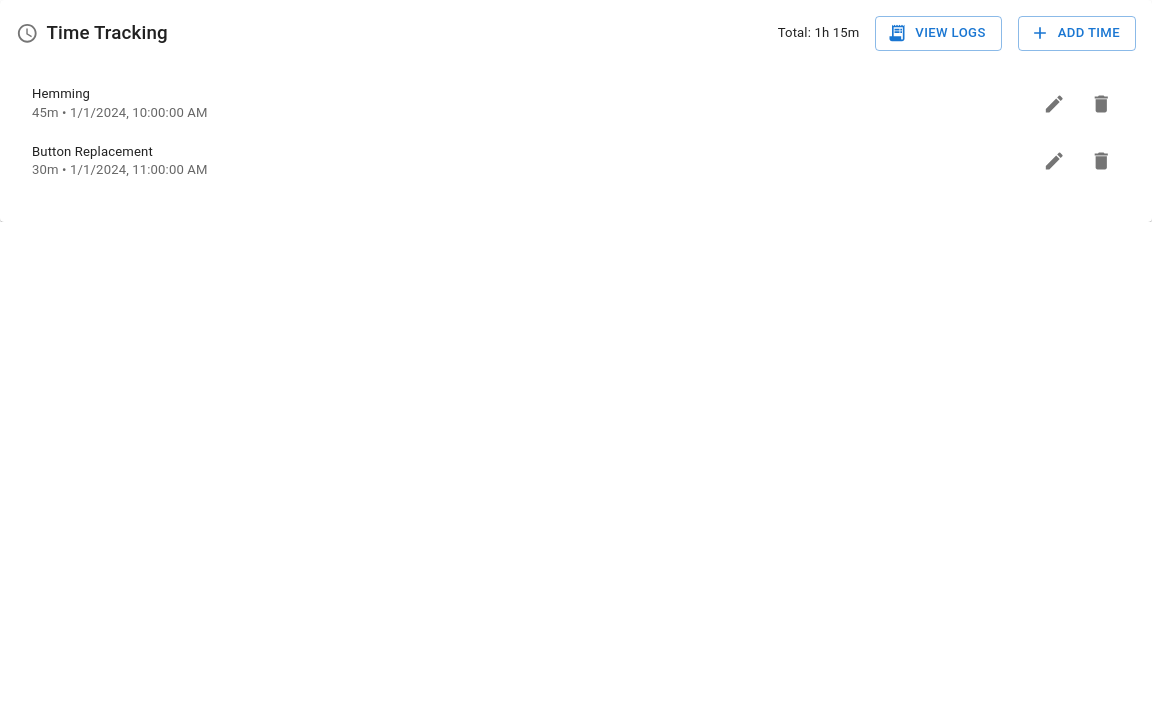
Test: GarmentTimeTracker › Validation › should show service validation error when no service is selected
The image size is (1152, 720).
Expected: the heading "Time Tracking" is shown, [46,18,168,48]
# Click Add Time button
Click the button "Add Time" at [1077, 34], box [1018,16,1136,51]
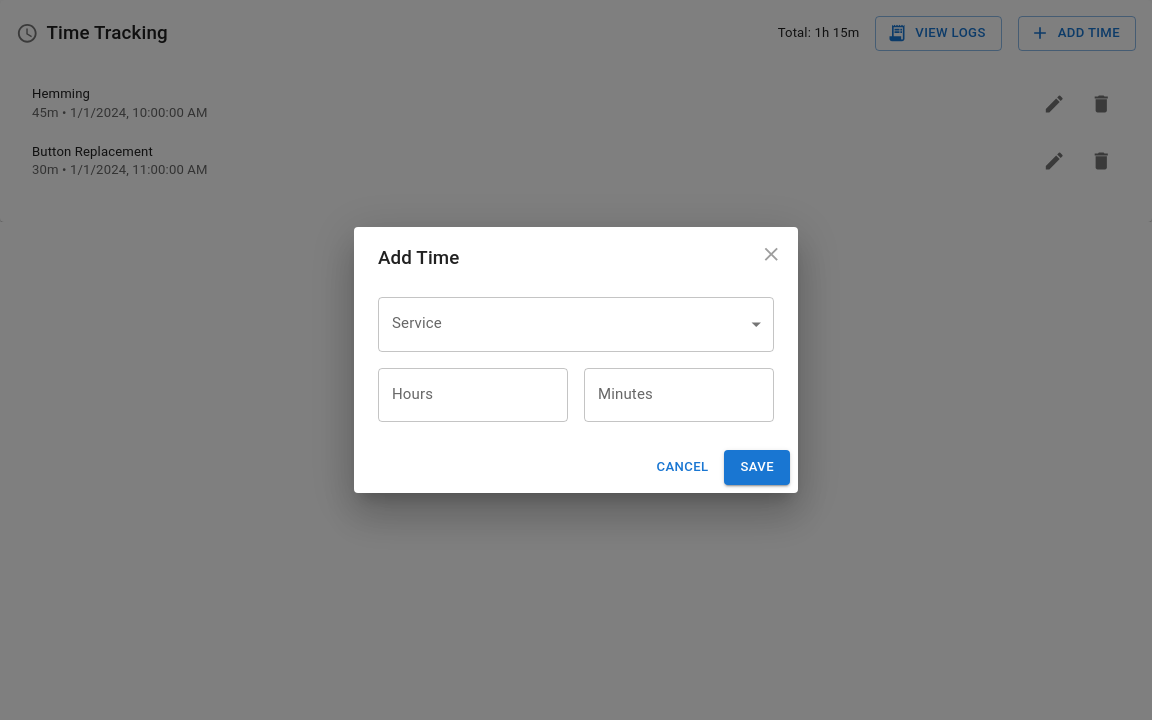
# Add time without selecting service
Type "1" into the number field labelled "Hours" at [473, 395], box [378,368,568,422]
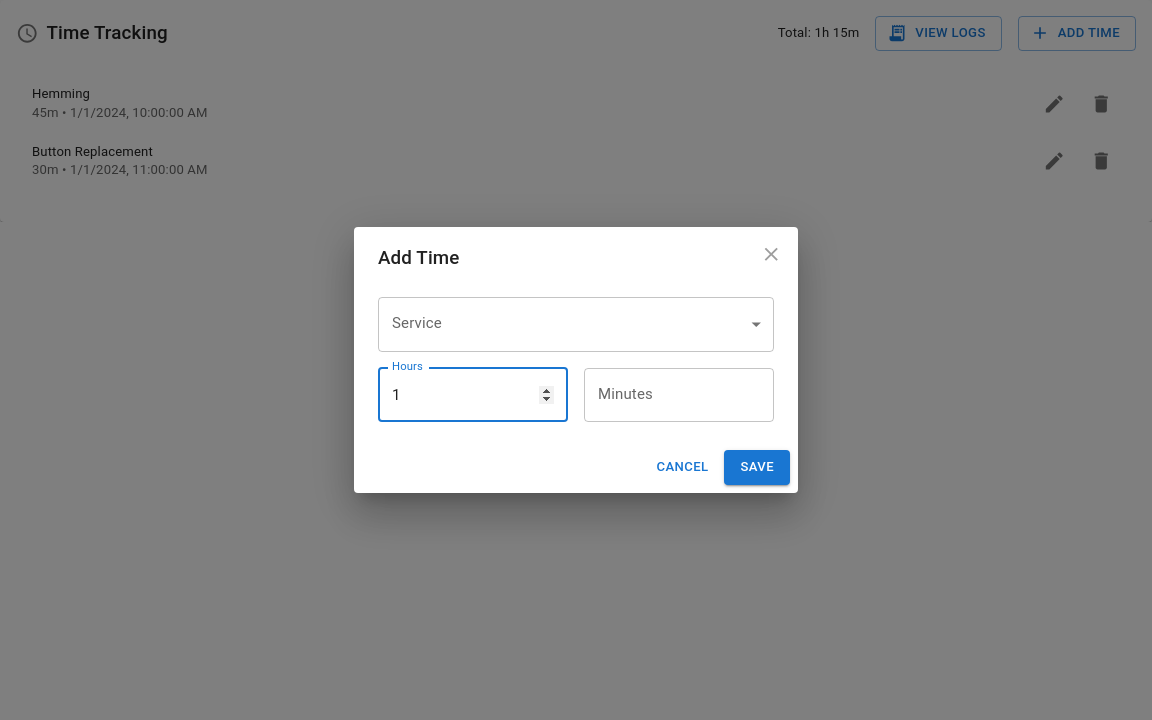
# Try to save
Click the button "Save" at [757, 468], box [724,450,790,485]
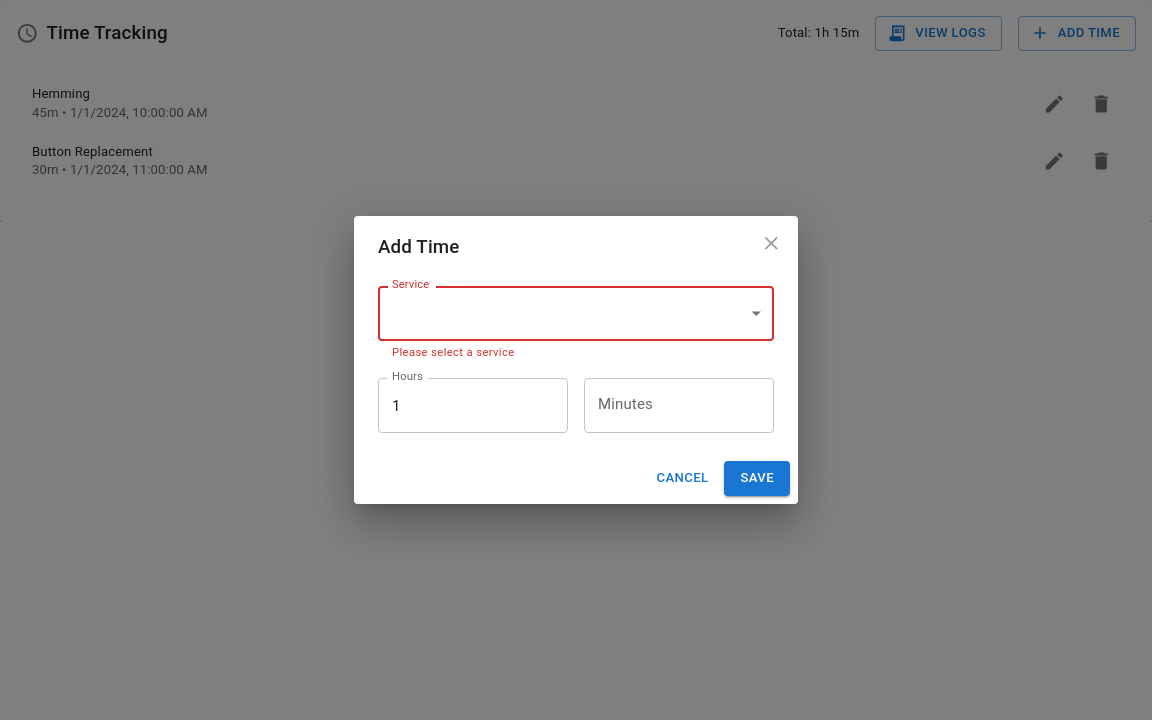
Expected: the text "Please select a service" is shown, [392,346,515,359]
